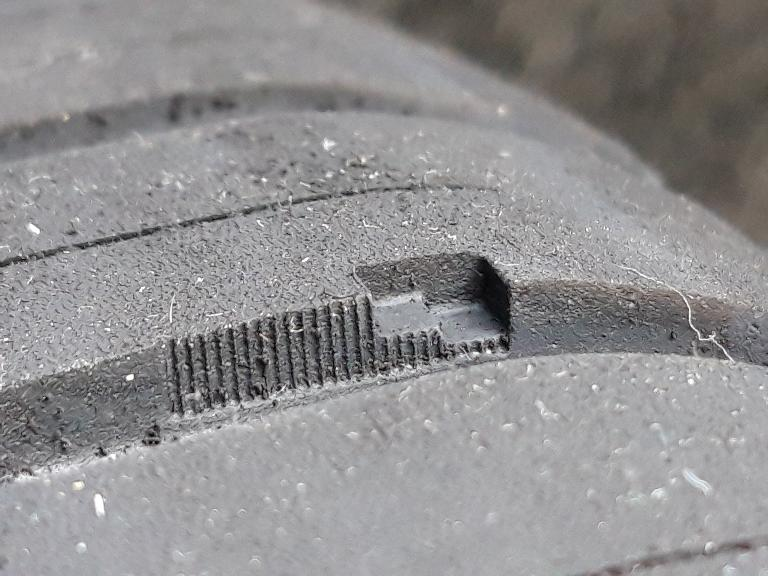temoin:50: (298, 248, 526, 398)
